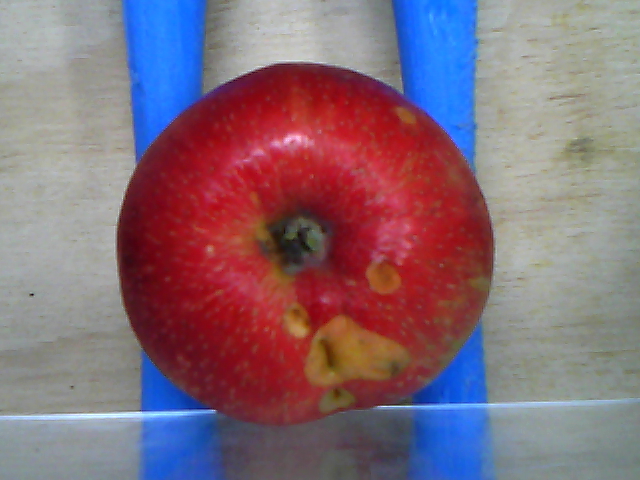cut: (318, 335, 340, 378)
